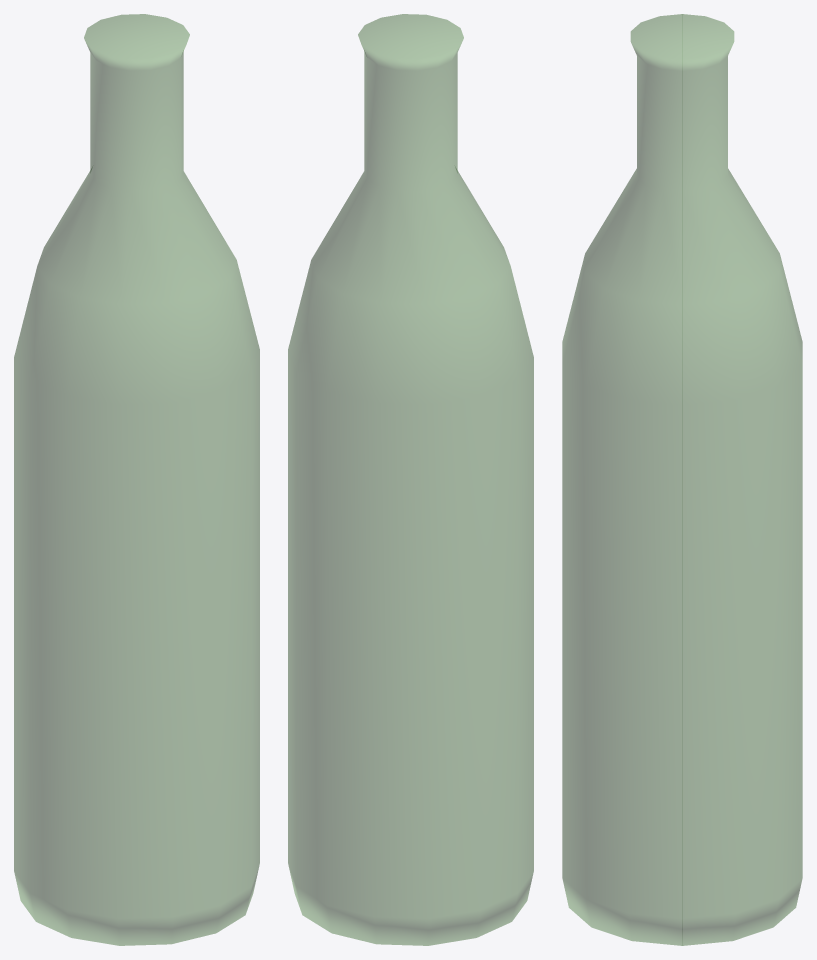
File: bottle.glb
The picture shows the model from 3 angles, left to right: view 1: azimuth 30°, elevation 25°; view 2: azimuth 150°, elevation 25°; view 3: azimuth 270°, elevation 25°; orthographic projection.
Visible parts, largest first — view 1: bottle; view 2: bottle; view 3: bottle.
Boxes of the visible parts, box(x1,y1,x2,y2) form: bottle: box(14, 14, 259, 945); bottle: box(288, 14, 533, 945); bottle: box(562, 14, 802, 945).
Bounding box in the file's own units: 0.074 × 0.285 × 0.0721.
